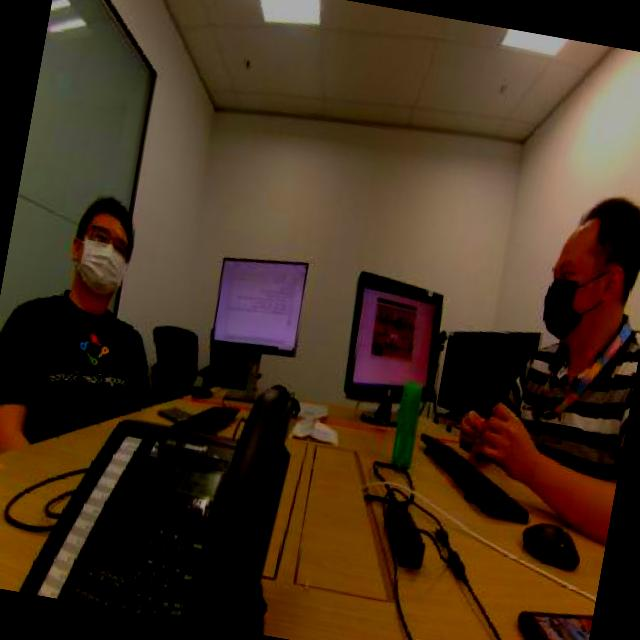Person: (12, 130, 190, 428), (506, 160, 640, 479)
